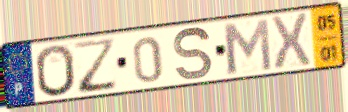0: (130, 35, 166, 84)
M: (220, 17, 275, 77)
O: (34, 43, 78, 99)
S: (171, 26, 215, 83)
X: (268, 11, 313, 73)
Z: (72, 35, 120, 95)
